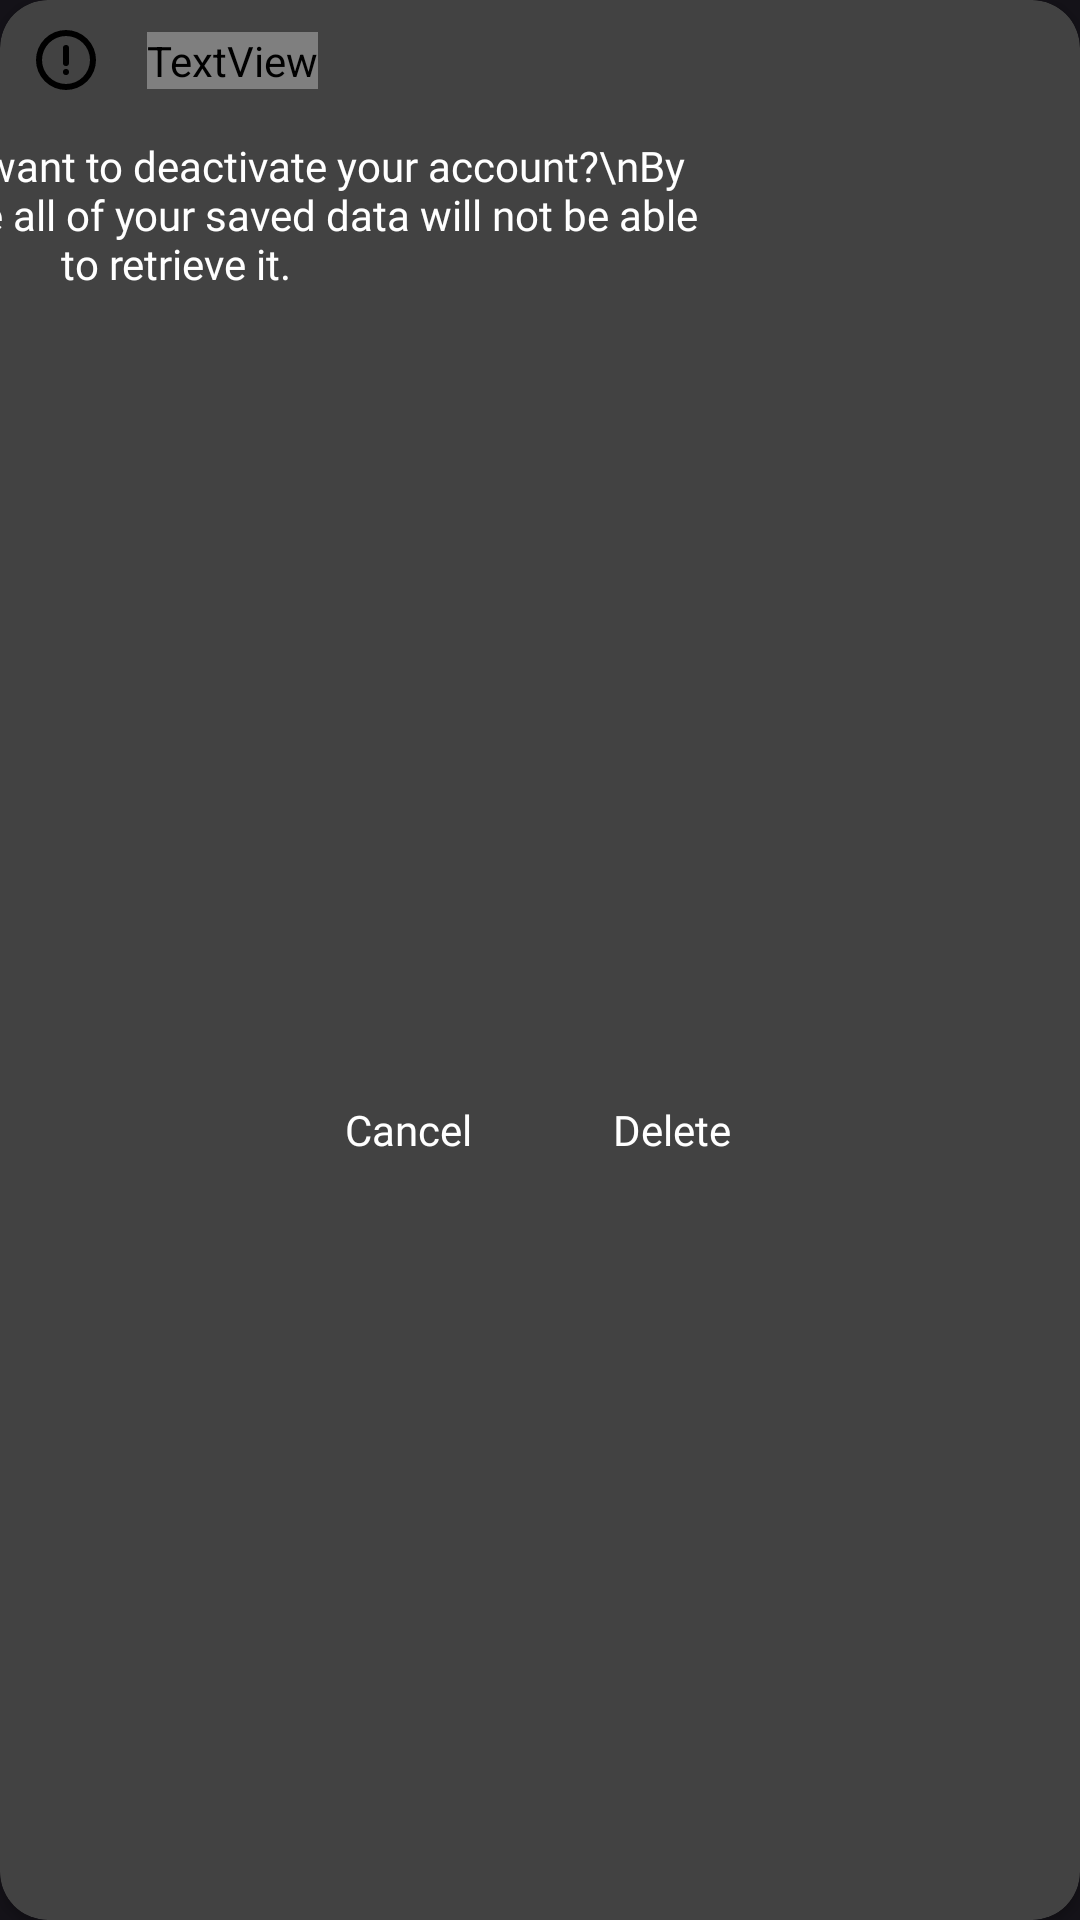

Screen size 1080w x 1920h. Icon name, then its box in pixels as (x1, y1, x2, y2):
alert: (36, 30, 96, 90)
